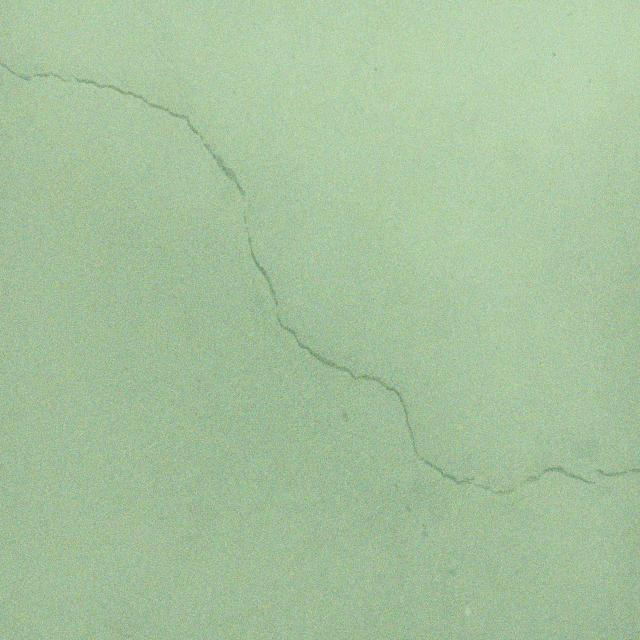crack: (0, 57, 640, 496)
